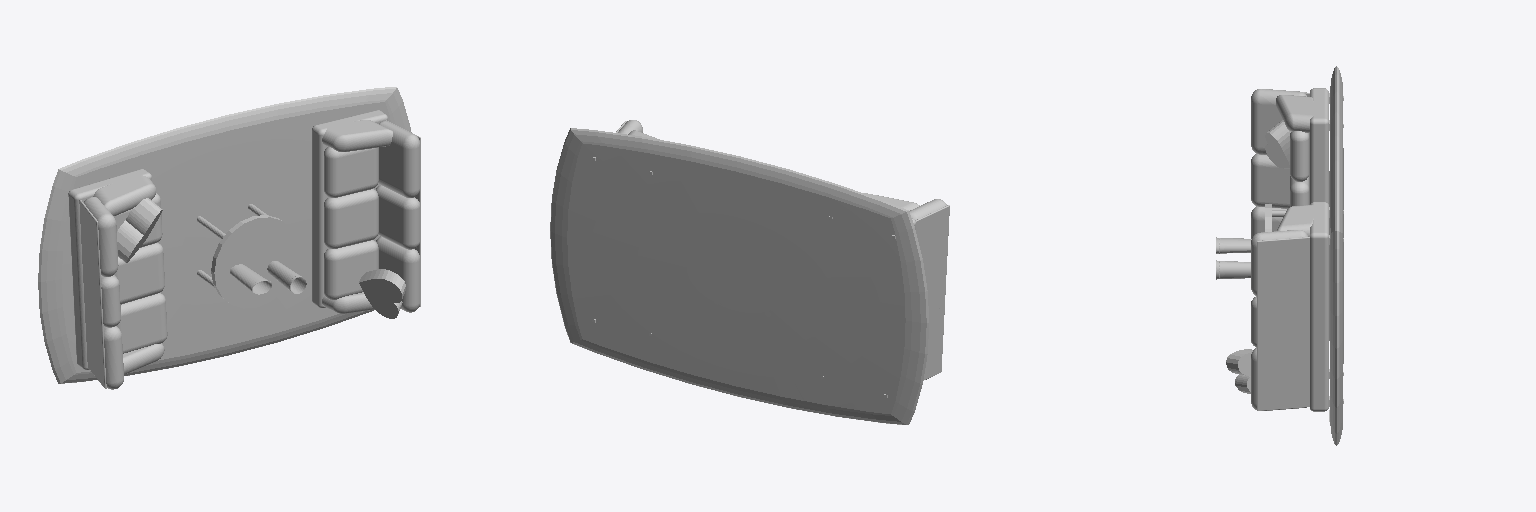
The model's file is couch2.obj.
3 views of the same model, side by side, from view 1: azimuth 30°, elevation 25°; view 2: azimuth 150°, elevation 25°; view 3: azimuth 270°, elevation 25° (orthographic).
Visible parts, largest first — view 1: obj_0; view 2: obj_0; view 3: obj_0.
Boxes of the visible parts, x1,y1,x2,y2 form: obj_0: [38, 87, 420, 389]; obj_0: [550, 120, 949, 424]; obj_0: [1216, 66, 1343, 445].
Size of the model in its own units: 88.98 by 54 by 26.